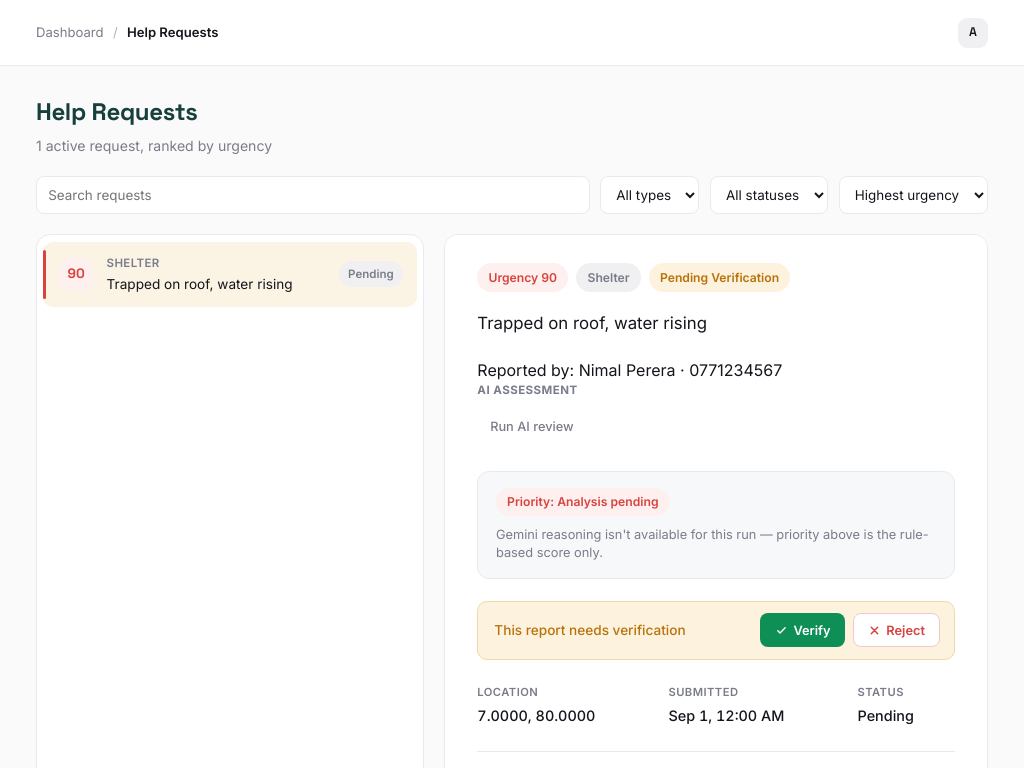
Test: Component B help request review — AI assessment › re-running AI review re-fetches the read-only assessment instead of trusting the POST body
The image size is (1024, 768).
expect the text "Priority: Analysis pending" is shown: met, box 496,488 -> 670,516
Click the button "Run AI review" at point(532, 427), box 477,410 -> 586,443
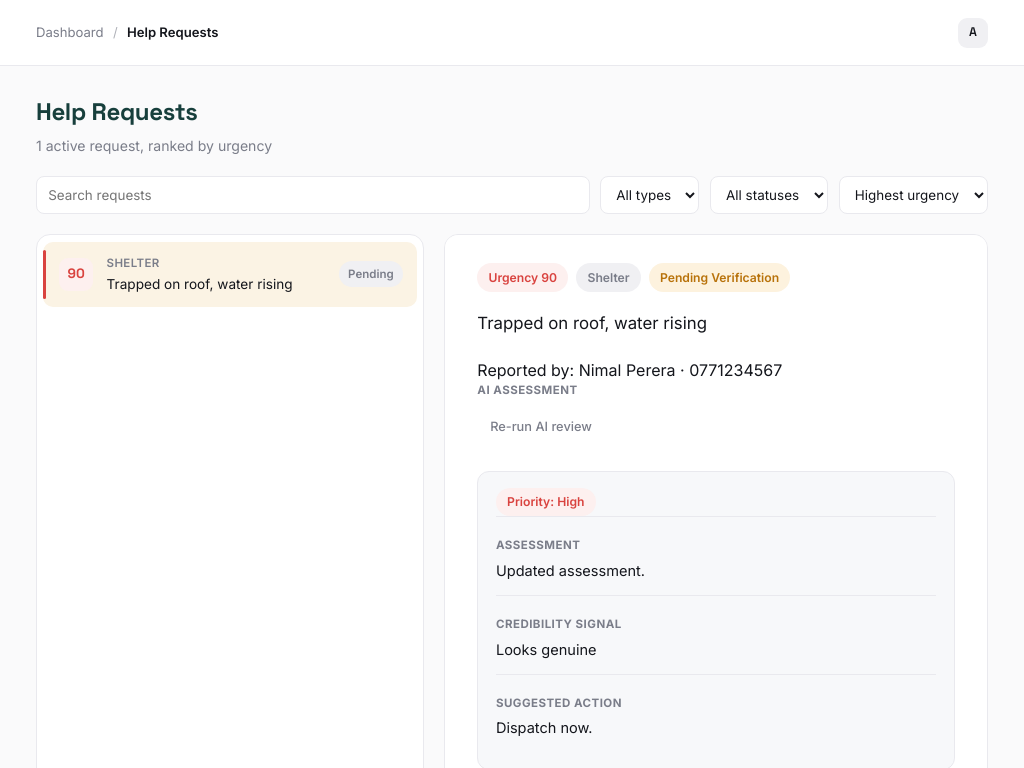
expect the text "Updated assessment." is shown: met, box 496,562 -> 645,580
